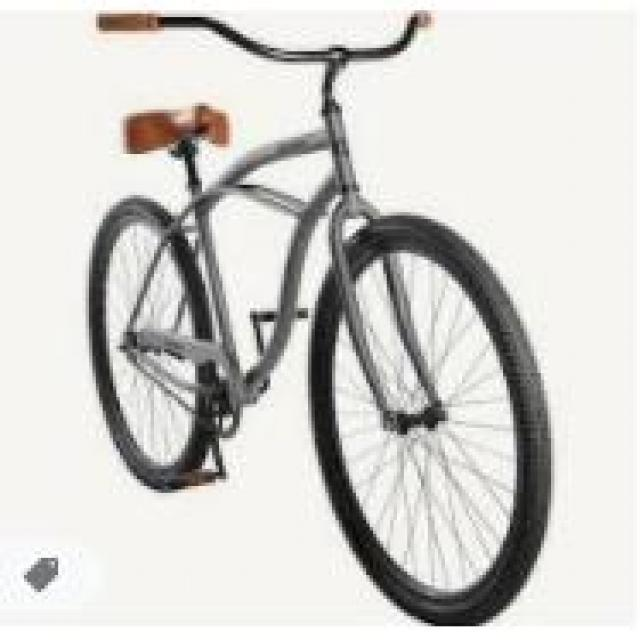bicycle: (73, 29, 593, 628)
